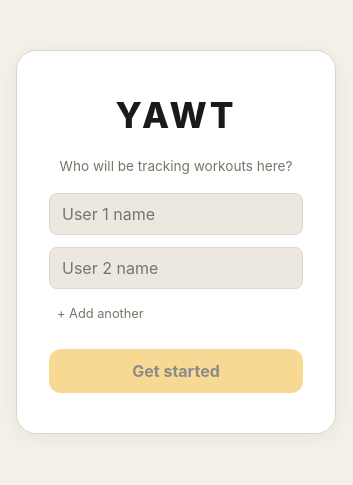
SetupView — users phase › "+ Add another" adds an input; hidden when there are already 4 inputs
starts with 2 inputs
Click the button "+ Add another": (100, 313) left=49, top=302, right=152, bottom=325
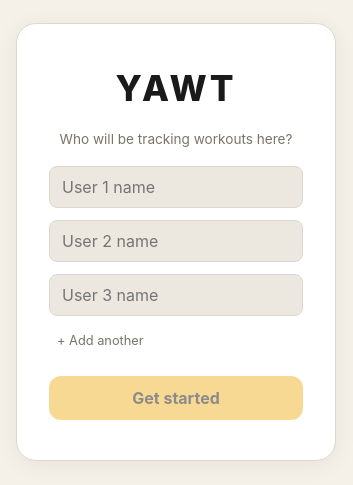
Check: the number of fields is 3, box left=49, top=166, right=303, bottom=208; left=49, top=220, right=303, bottom=262; left=49, top=274, right=303, bottom=316
Click the button "+ Add another": (100, 340) left=49, top=329, right=152, bottom=352
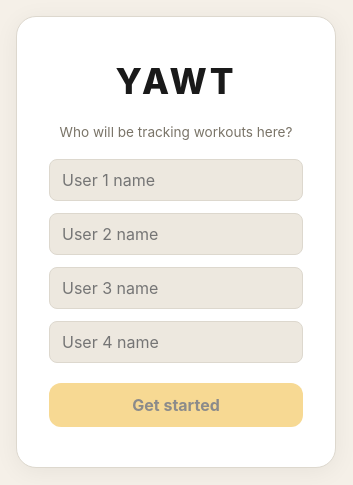
Check: the number of fields is 4, box left=49, top=159, right=303, bottom=201; left=49, top=213, right=303, bottom=255; left=49, top=267, right=303, bottom=309; left=49, top=321, right=303, bottom=363
Check: the button "+ Add another" is gone
